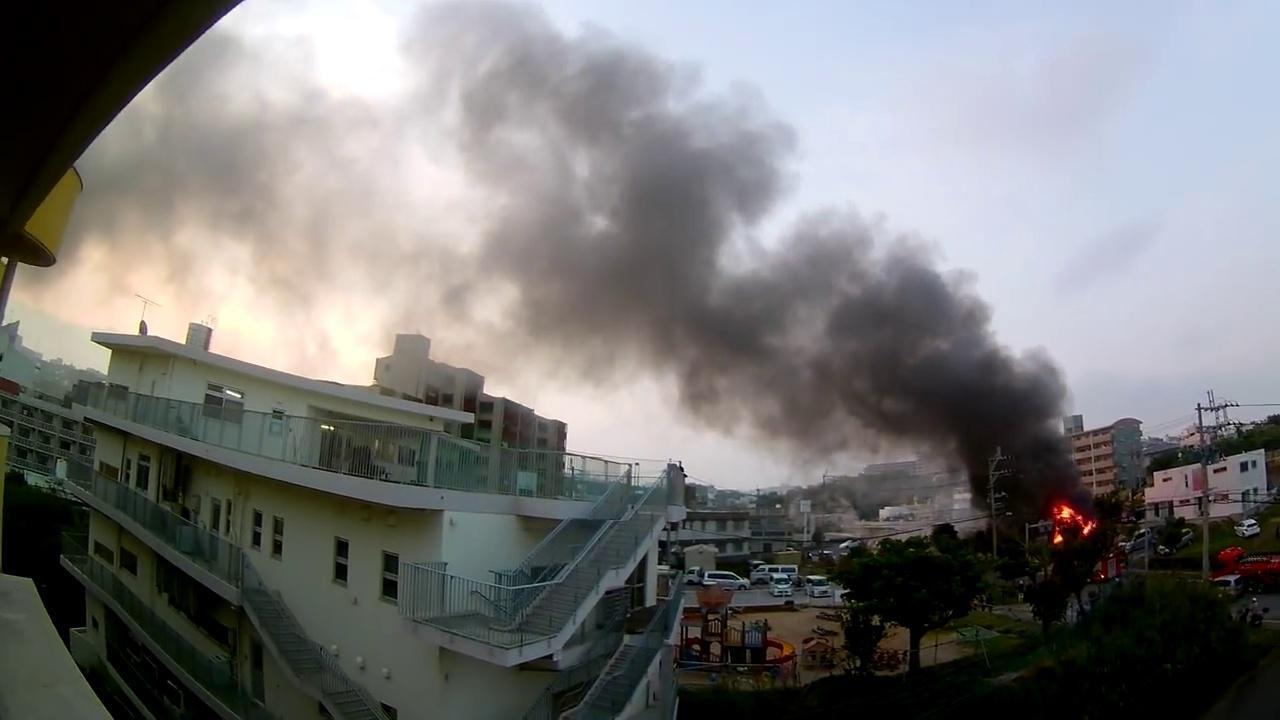Fire: (1053, 505, 1102, 547)
